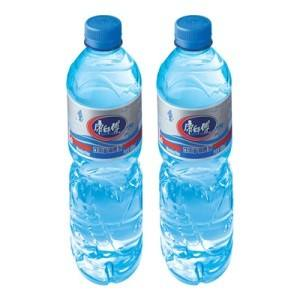amwater: (50, 5, 154, 289), (153, 6, 241, 291)
